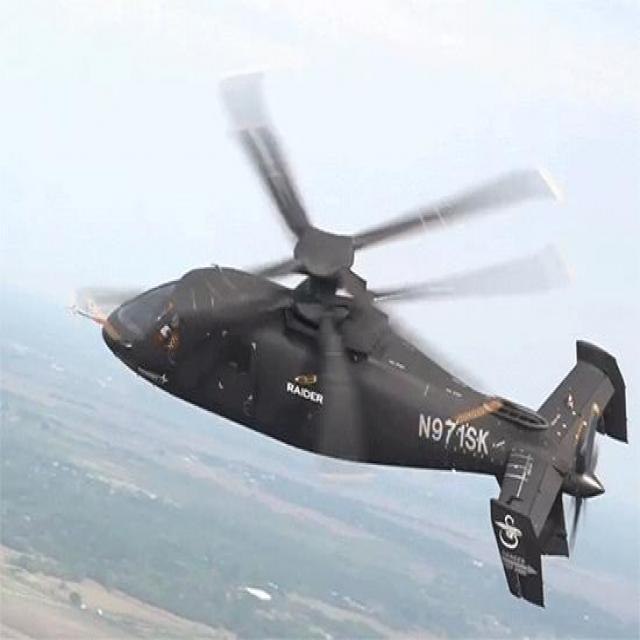MIL_HELO: (58, 54, 640, 611)
